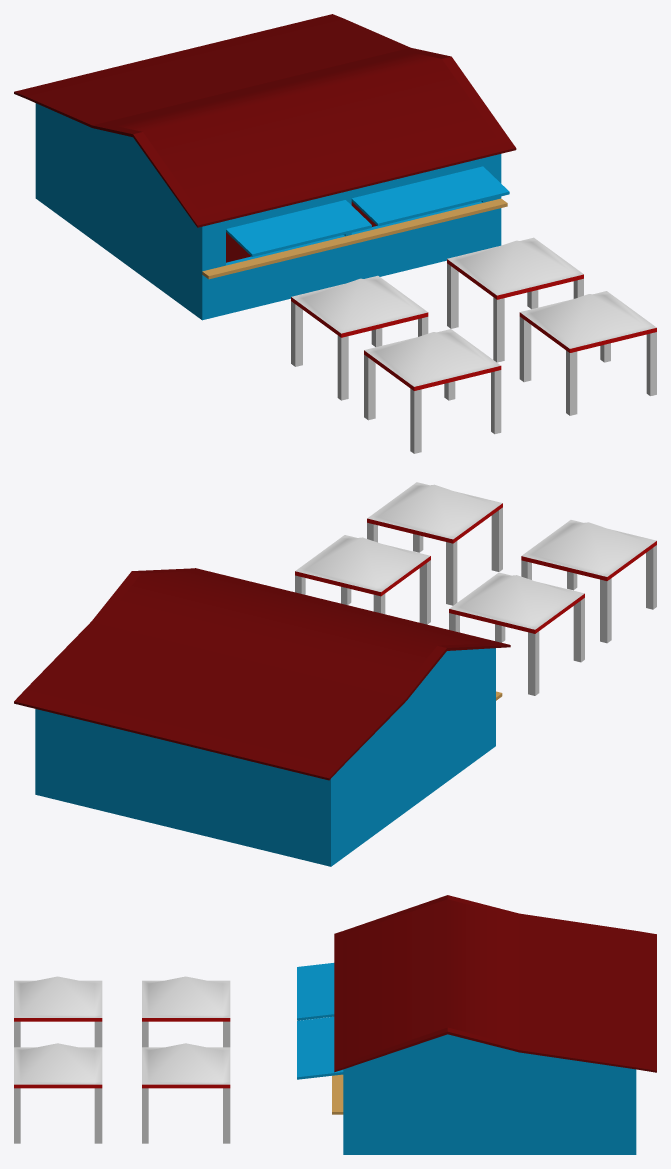
The model's file is LBC Canteen.fbx.
The picture shows the model from 3 angles, top to bottom: view 1: azimuth 30°, elevation 25°; view 2: azimuth 150°, elevation 25°; view 3: azimuth 270°, elevation 25°; orthographic projection. The views are drawn at different scales.
Visible parts, largest first — view 1: pCube1, pCube5, pCube4, pCube3, pCube2; view 2: pCube1, pCube3, pCube5, pCube4, pCube2; view 3: pCube1, pCube5, pCube2, pCube4, pCube3.
Boxes of the visible parts, x1,y1,x2,y2 form: pCube1: (14,14,516,320); pCube5: (519,291,656,415); pCube4: (364,329,501,453); pCube3: (291,275,428,400); pCube2: (447,237,583,362); pCube1: (14,568,510,866); pCube3: (449,572,584,695); pCube5: (367,482,502,605); pCube4: (521,520,656,643); pCube2: (295,535,430,624); pCube1: (297,895,656,1154); pCube5: (14,1043,102,1143); pCube2: (142,1043,230,1143); pCube4: (14,976,102,1047); pCube3: (142,976,230,1047).
Bounding box in the file's own units: 11.27 × 4.99 × 22.41.
